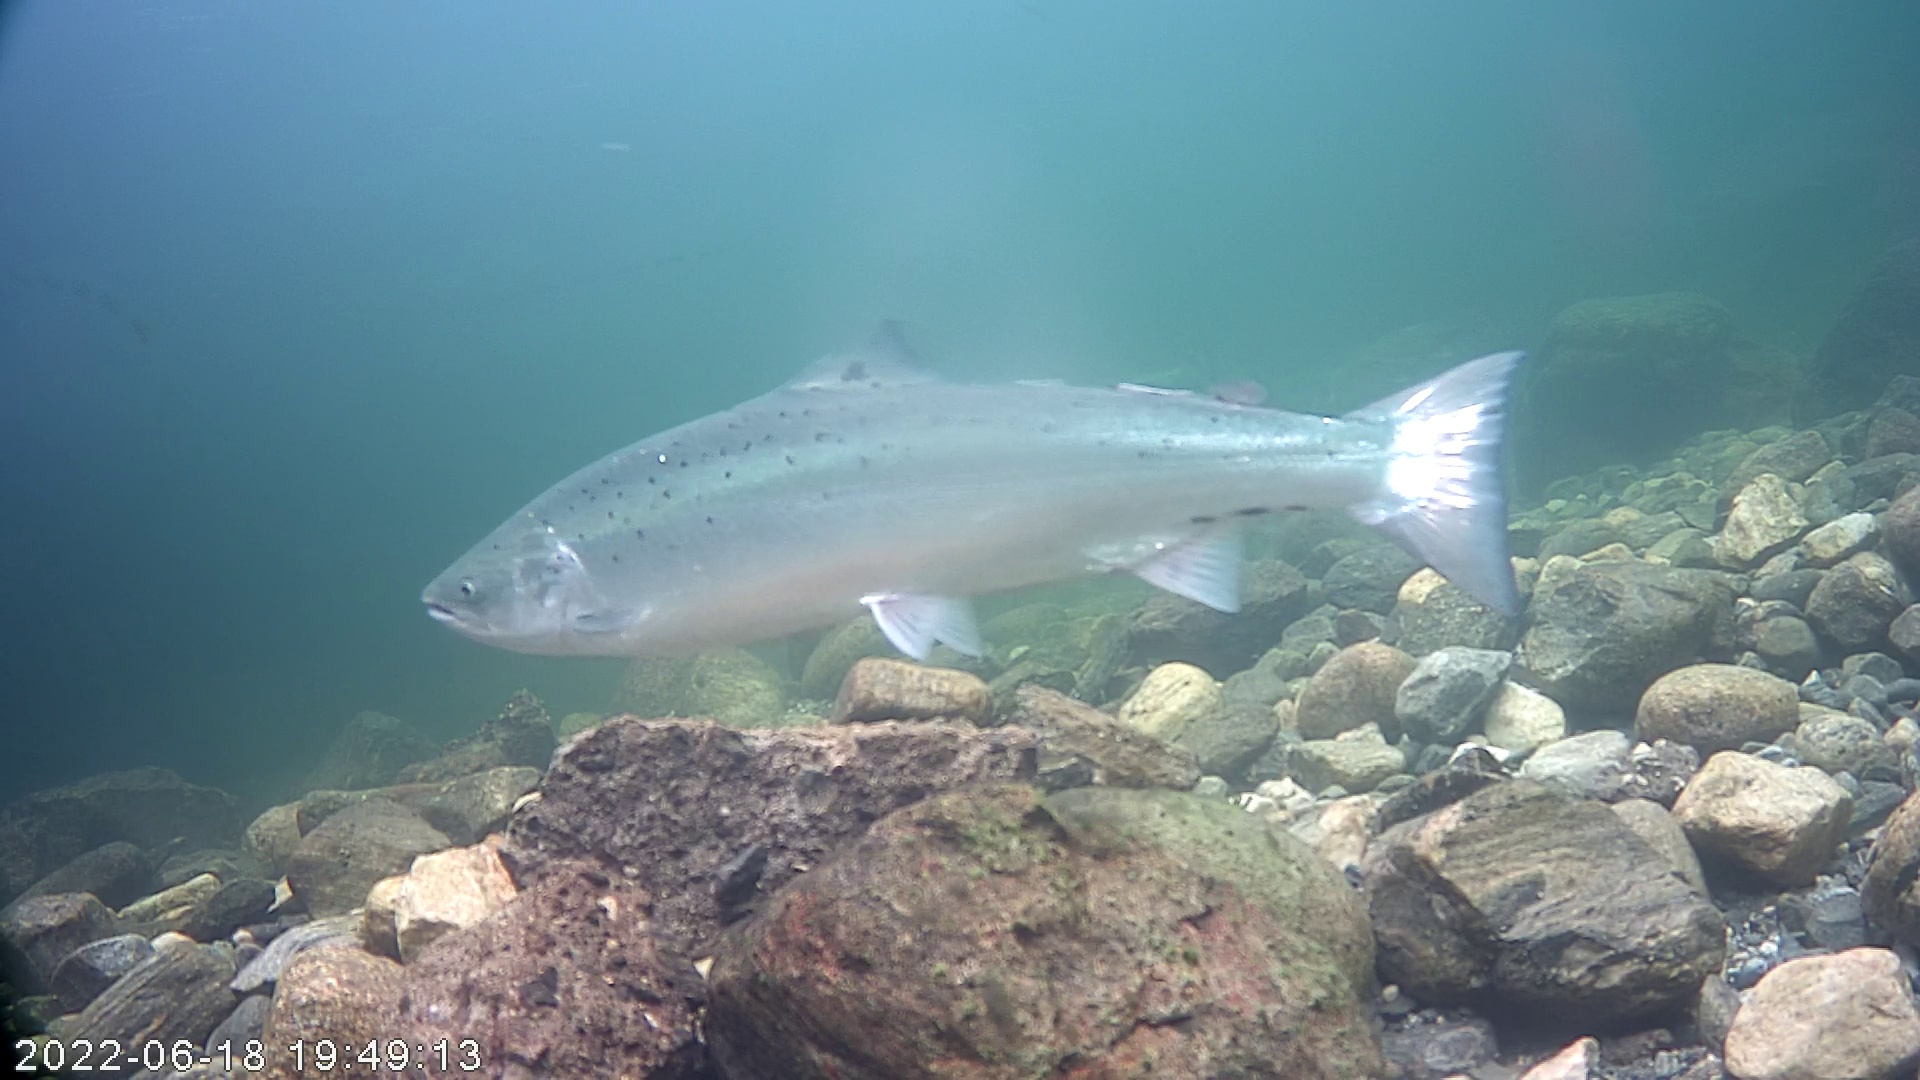salmon: (419, 310, 1523, 661)
